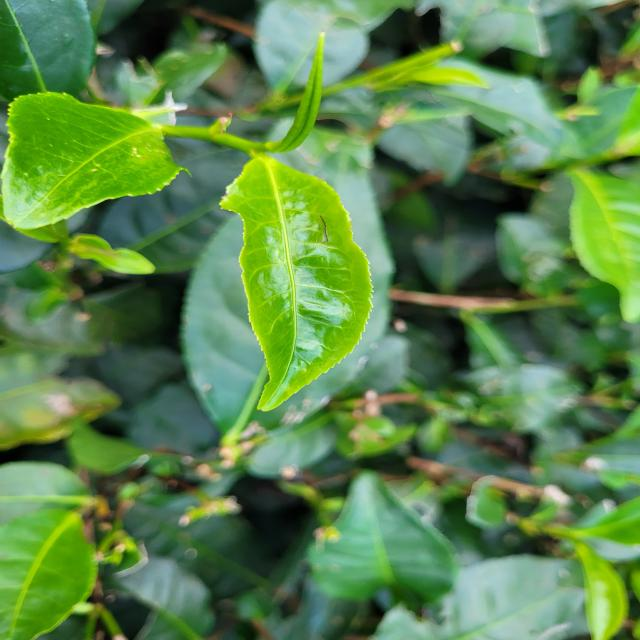Catagory A(1-2 days): (220, 144, 396, 442)
